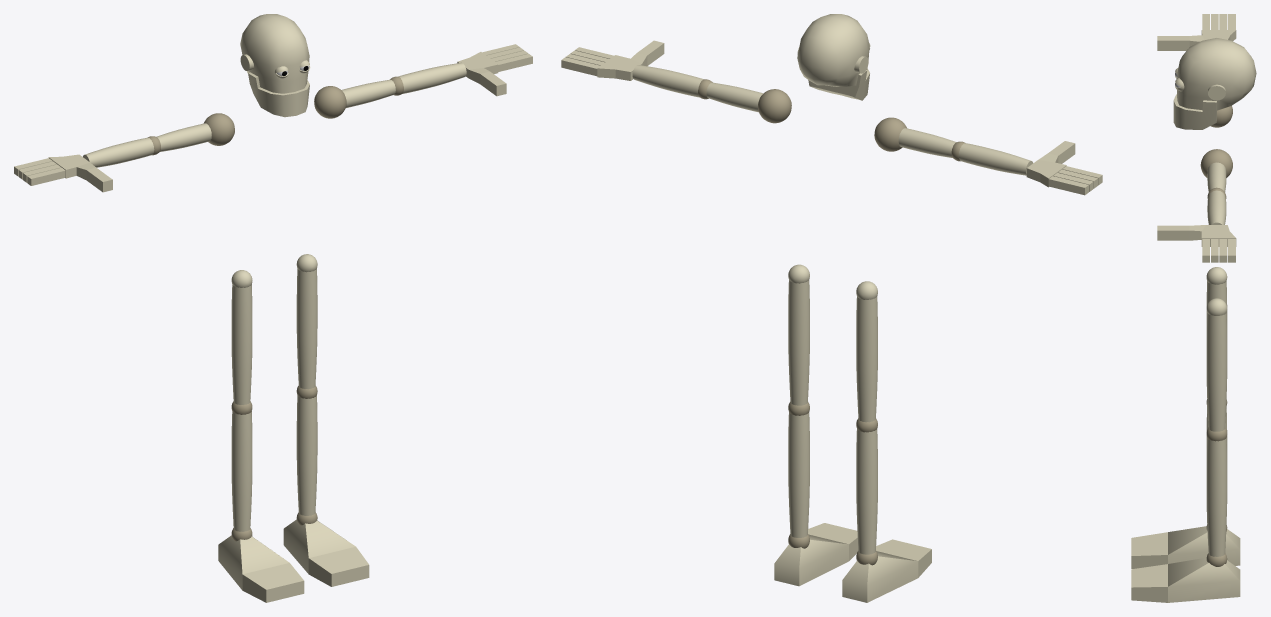
File: SM_Character_No_Anim_B.fbx
3 views of the same model, side by side, from view 1: azimuth 30°, elevation 25°; view 2: azimuth 150°, elevation 25°; view 3: azimuth 270°, elevation 25° (orthographic). The views are drawn at different scales.
Visible parts, largest first — view 1: Billy_TwoTwo_HeadTopGeo, Billy_TwoTwo_rLwrLegGeo, Billy_TwoTwo_rUprLegGeo, Billy_TwoTwo_lUprLegGeo, Billy_TwoTwo_lLwrLegGeo, Billy_TwoTwo_lHeelGeo, Billy_TwoTwo_rHeelGeo, Billy_TwoTwo_rBallGeo, Billy_TwoTwo_lBallGeo, Billy_TwoTwo_HeadBtmGeo, Billy_TwoTwo_rLwrArmGeo, Billy_TwoTwo_lLwrArmGeo (+4 smaller); view 2: Billy_TwoTwo_HeadTopGeo, Billy_TwoTwo_rUprLegGeo, Billy_TwoTwo_lLwrLegGeo, Billy_TwoTwo_rLwrLegGeo, Billy_TwoTwo_lUprLegGeo, Billy_TwoTwo_rHeelGeo, Billy_TwoTwo_lHeelGeo, Billy_TwoTwo_rLwrArmGeo, Billy_TwoTwo_lLwrArmGeo, Billy_TwoTwo_rUprArmGeo, Billy_TwoTwo_lUprArmGeo, Billy_TwoTwo_lShoulderGeo (+4 smaller); view 3: Billy_TwoTwo_HeadTopGeo, Billy_TwoTwo_lHeelGeo, Billy_TwoTwo_lUprLegGeo, Billy_TwoTwo_lLwrLegGeo, Billy_TwoTwo_rHeelGeo, Billy_TwoTwo_lBallGeo, Billy_TwoTwo_rBallGeo, Billy_TwoTwo_HeadBtmGeo, Billy_TwoTwo_lLwrArmGeo, Billy_TwoTwo_lShoulderGeo, Billy_TwoTwo_lUprArmGeo, Billy_TwoTwo_rUprLegGeo (+13 smaller).
Part boxes in pixels (left/top/right/bottom): Billy_TwoTwo_HeadTopGeo: left=240, top=14, right=309, bottom=93; Billy_TwoTwo_rLwrLegGeo: left=231, top=411, right=252, bottom=531; Billy_TwoTwo_rUprLegGeo: left=231, top=284, right=252, bottom=404; Billy_TwoTwo_lUprLegGeo: left=296, top=268, right=317, bottom=389; Billy_TwoTwo_lLwrLegGeo: left=296, top=395, right=317, bottom=515; Billy_TwoTwo_lHeelGeo: left=283, top=519, right=355, bottom=573; Billy_TwoTwo_rHeelGeo: left=218, top=535, right=289, bottom=590; Billy_TwoTwo_rBallGeo: left=242, top=563, right=304, bottom=602; Billy_TwoTwo_lBallGeo: left=308, top=546, right=369, bottom=586; Billy_TwoTwo_HeadBtmGeo: left=248, top=72, right=309, bottom=117; Billy_TwoTwo_rLwrArmGeo: left=83, top=137, right=154, bottom=167; Billy_TwoTwo_lLwrArmGeo: left=398, top=62, right=466, bottom=93; Billy_TwoTwo_HeadTopGeo: left=797, top=14, right=869, bottom=86; Billy_TwoTwo_rUprLegGeo: left=856, top=296, right=877, bottom=422; Billy_TwoTwo_lLwrLegGeo: left=788, top=412, right=809, bottom=537; Billy_TwoTwo_rLwrLegGeo: left=856, top=429, right=877, bottom=554; Billy_TwoTwo_lUprLegGeo: left=788, top=280, right=809, bottom=405; Billy_TwoTwo_rHeelGeo: left=842, top=551, right=918, bottom=602; Billy_TwoTwo_lHeelGeo: left=774, top=534, right=848, bottom=586; Billy_TwoTwo_rLwrArmGeo: left=958, top=143, right=1033, bottom=175; Billy_TwoTwo_lLwrArmGeo: left=632, top=65, right=703, bottom=97; Billy_TwoTwo_rUprArmGeo: left=898, top=128, right=956, bottom=157; Billy_TwoTwo_lUprArmGeo: left=706, top=82, right=763, bottom=112; Billy_TwoTwo_lShoulderGeo: left=758, top=89, right=791, bottom=123; Billy_TwoTwo_HeadTopGeo: left=1177, top=38, right=1256, bottom=110; Billy_TwoTwo_lHeelGeo: left=1168, top=557, right=1240, bottom=602; Billy_TwoTwo_lUprLegGeo: left=1206, top=312, right=1227, bottom=431; Billy_TwoTwo_lLwrLegGeo: left=1206, top=437, right=1227, bottom=556; Billy_TwoTwo_rHeelGeo: left=1168, top=526, right=1240, bottom=565; Billy_TwoTwo_lBallGeo: left=1131, top=564, right=1167, bottom=602; Billy_TwoTwo_rBallGeo: left=1131, top=532, right=1167, bottom=568; Billy_TwoTwo_HeadBtmGeo: left=1173, top=94, right=1216, bottom=129; Billy_TwoTwo_lLwrArmGeo: left=1207, top=190, right=1226, bottom=224; Billy_TwoTwo_lShoulderGeo: left=1200, top=149, right=1232, bottom=177; Billy_TwoTwo_lUprArmGeo: left=1207, top=162, right=1226, bottom=191; Billy_TwoTwo_rUprLegGeo: left=1206, top=281, right=1227, bottom=335.
Bounding box in the file's own units: 26.5 × 27.31 × 5.8.
